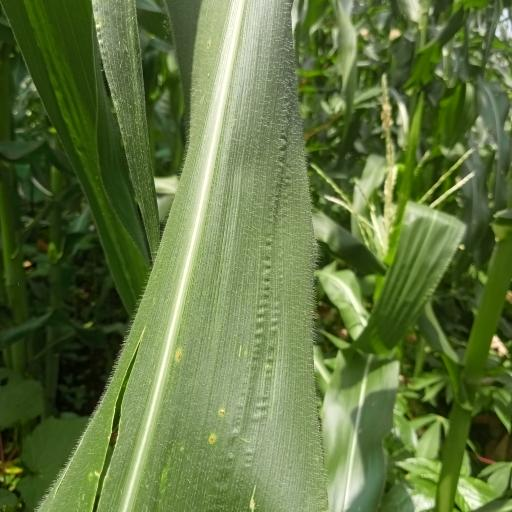Corn_Brown_Spots: (115, 0, 324, 506)
